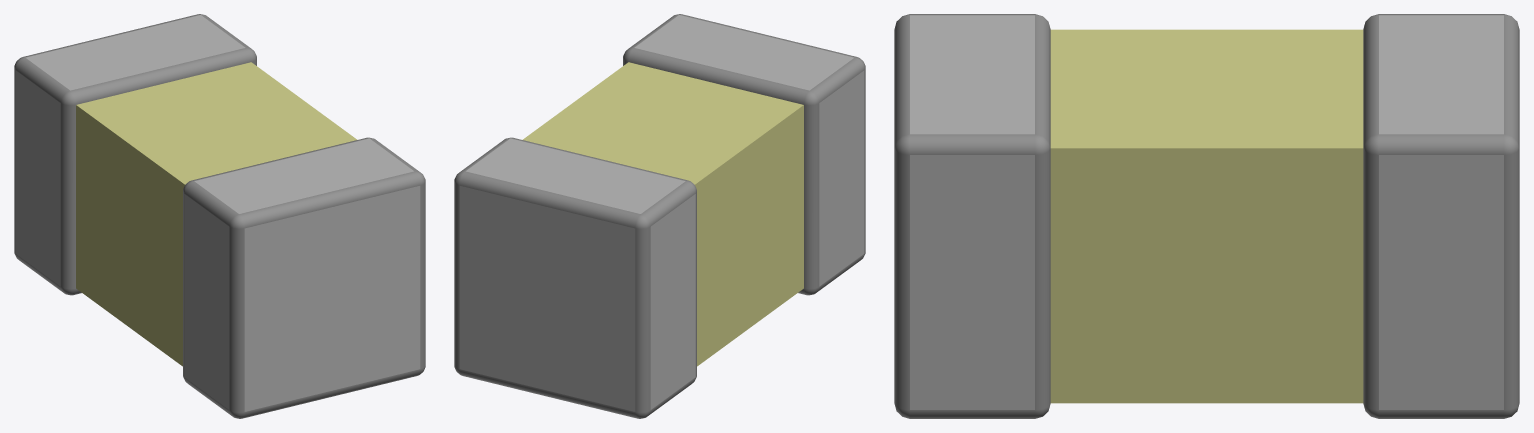
3 views of the same model, side by side, from view 1: azimuth 30°, elevation 25°; view 2: azimuth 150°, elevation 25°; view 3: azimuth 270°, elevation 25° (orthographic). The views are drawn at different scales.
Parts seen in each view (by area): view 1: Ceramic Capacitor; view 2: Ceramic Capacitor; view 3: Ceramic Capacitor.
Part boxes in pixels (box(x1,y1,x2,y2)): Ceramic Capacitor: box(14, 14, 425, 418); Ceramic Capacitor: box(454, 14, 865, 418); Ceramic Capacitor: box(894, 14, 1519, 418).
Bounding box in the file's own units: 0.0005 × 0.0005 × 0.001.
